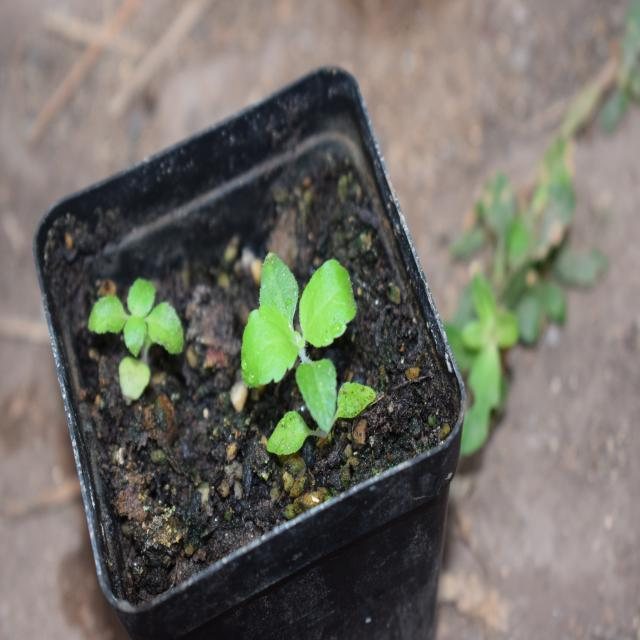billygoat_weed: (241, 248, 373, 448), (82, 270, 193, 399)
